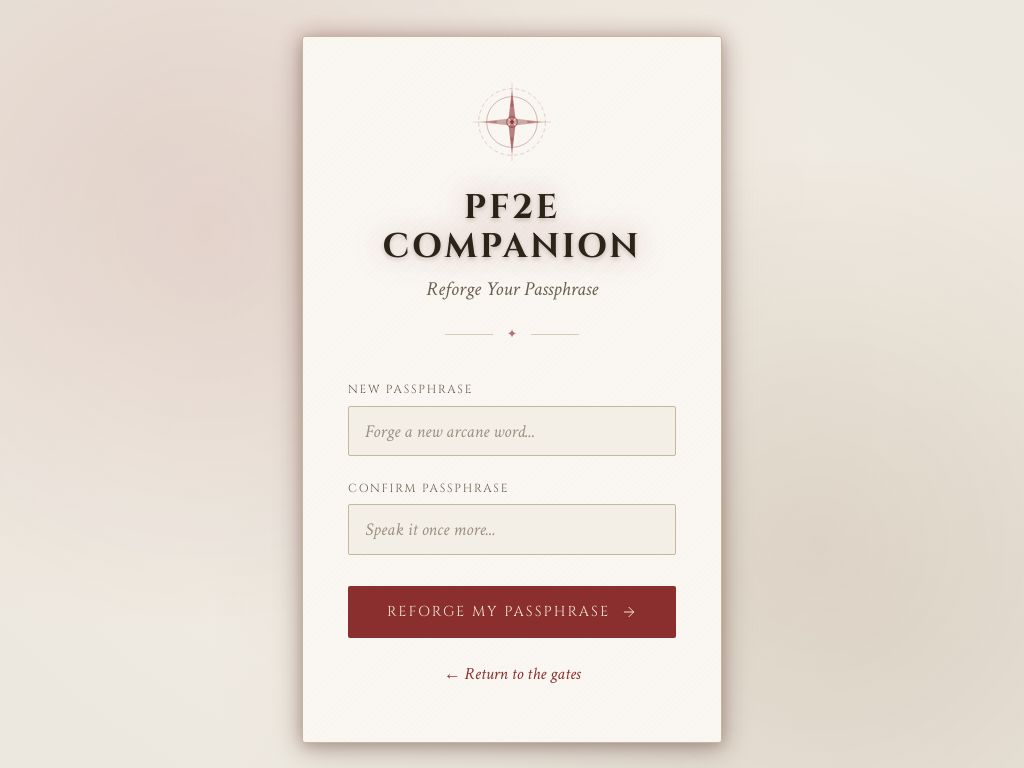
ResetPassword › should show error message on reset failure
Type "newpass123" into the password field labelled "New Passphrase" at [512, 431], box x1=348 y1=406 x2=676 y2=456
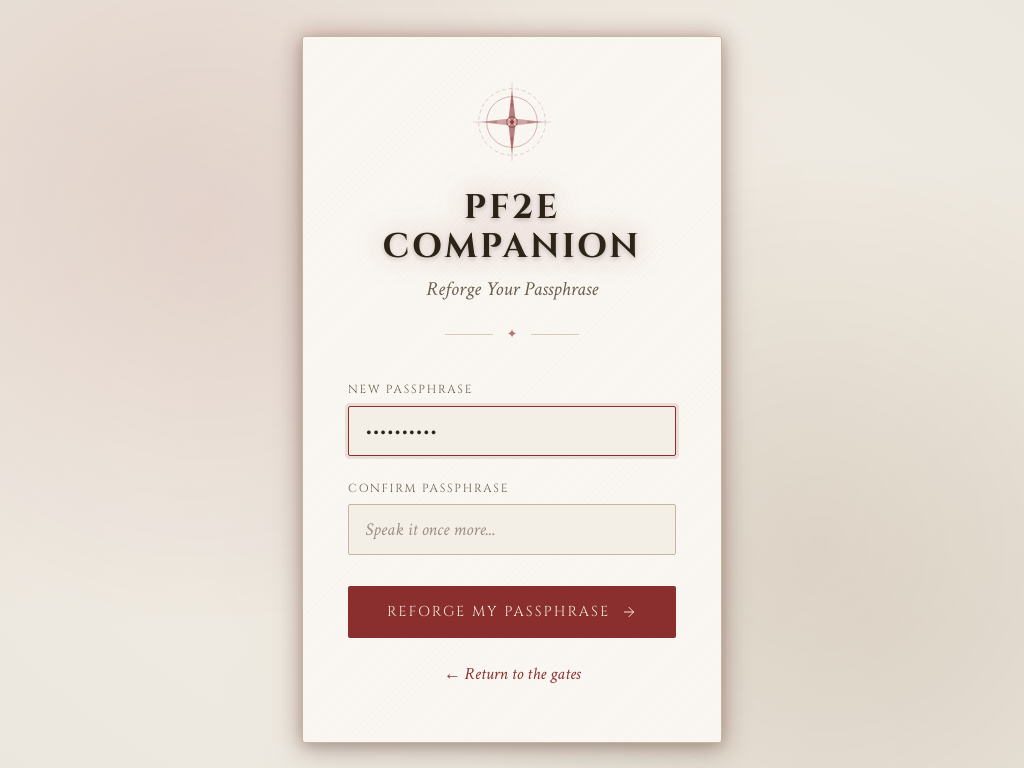
Type "newpass123" into the password field labelled "Confirm Passphrase" at [512, 529], box x1=348 y1=504 x2=676 y2=554
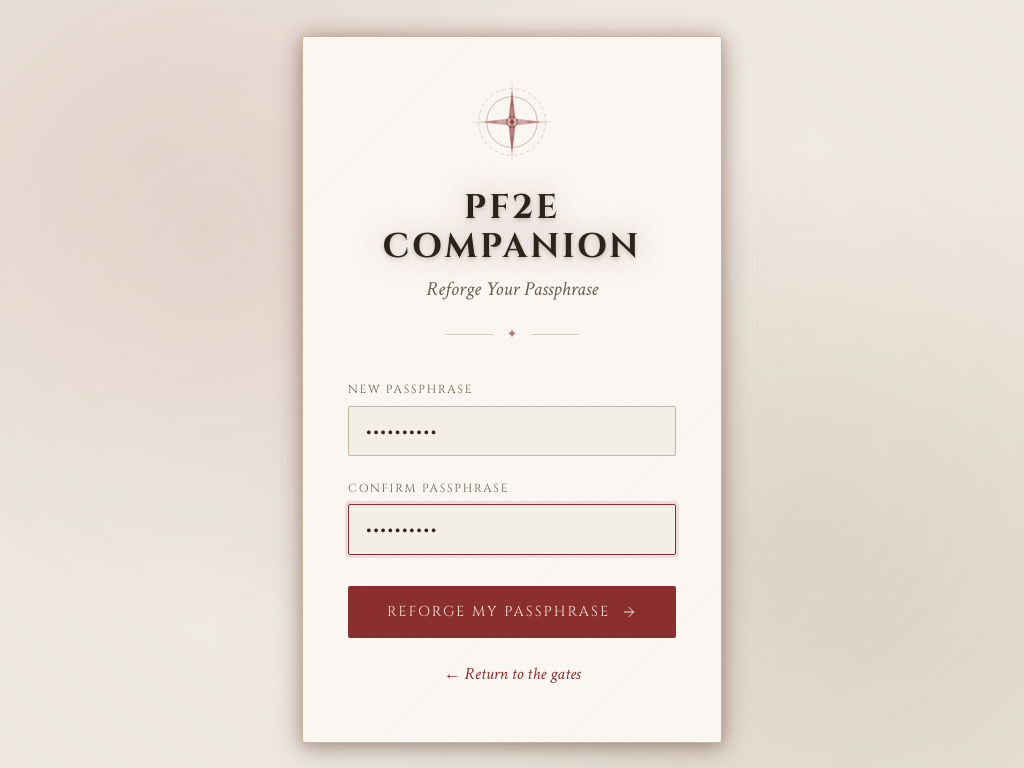
Click the button "Reforge My Passphrase" at [512, 612], box x1=348 y1=586 x2=676 y2=638
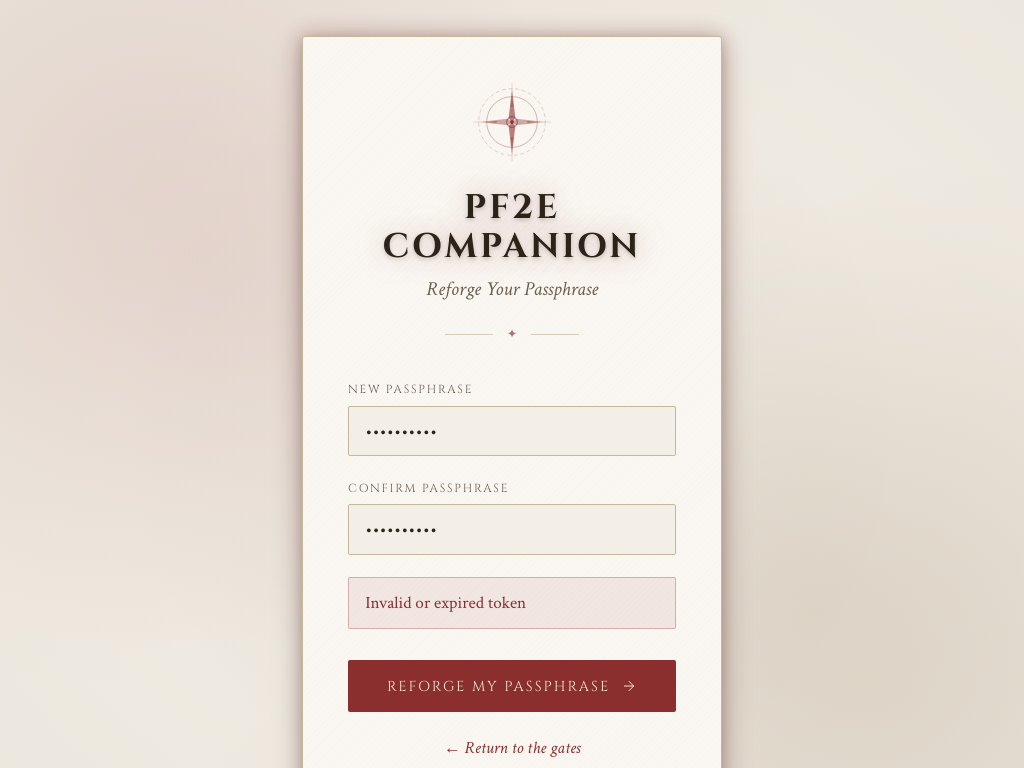
Result: the message reads "Invalid or expired token" at x1=365 y1=592 x2=526 y2=614
